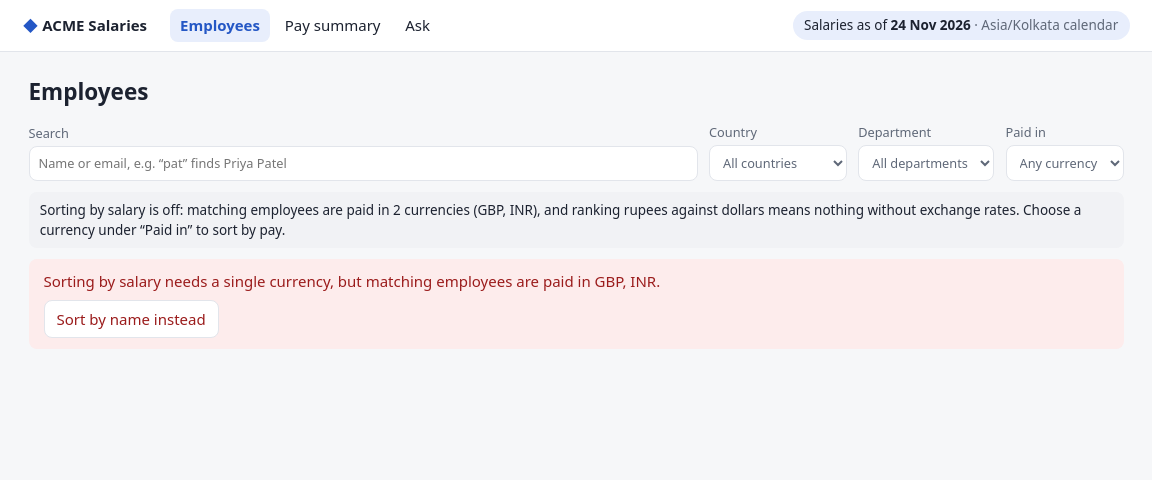
Test: salary column (D8: only sortable within one currency) › explains the API's refusal and offers to sort by name instead
The width and height of the screenshot is (1152, 480).
Expected: the message shows "paid in GBP, INR", [44,271,660,291]
What coordinates should you click on to do the following:
click the button "Sort by name instead"
I would click on:
 (131, 319)
Its box is [44,300,219,338].
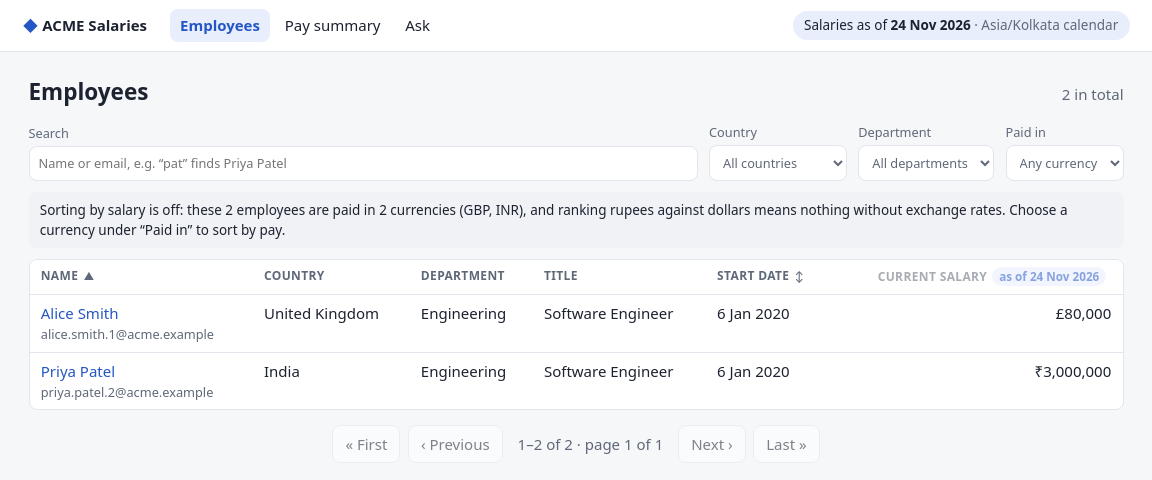
Expected: the link "Alice Smith" is shown, [41,303,118,323]
Expected: the button "Current salary as of 24 Nov 2026" is disabled, [878,267,1111,286]
